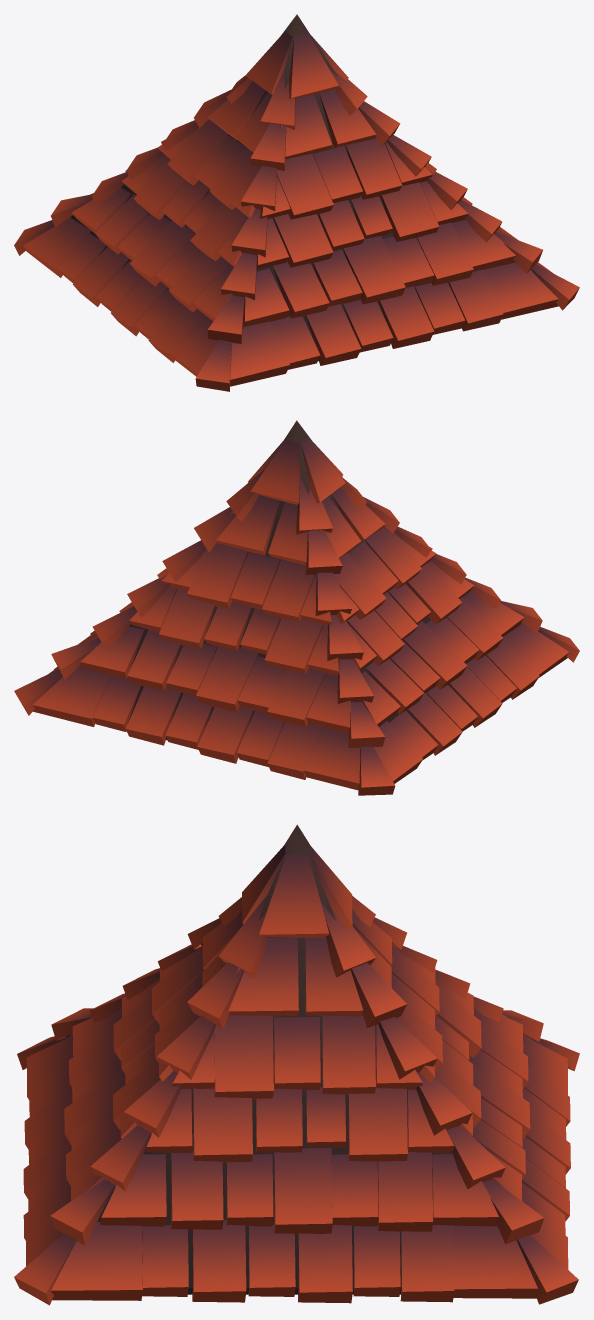
The model's file is RoofA03.fbx.
3 renders of one model, top to bottom at view 1: azimuth 30°, elevation 25°; view 2: azimuth 150°, elevation 25°; view 3: azimuth 270°, elevation 25°, orthographic. The views are drawn at different scales.
Parts seen in each view (by area): view 1: RoofA03; view 2: RoofA03; view 3: RoofA03.
Part boxes in pixels (bbox=[...]): RoofA03: bbox=[14, 14, 579, 391]; RoofA03: bbox=[14, 420, 579, 795]; RoofA03: bbox=[14, 824, 579, 1305].
Bounding box in the file's own units: 577 × 380 × 541.
1 material, 1 textured.
